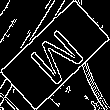M_SE: (22, 21, 88, 89)
